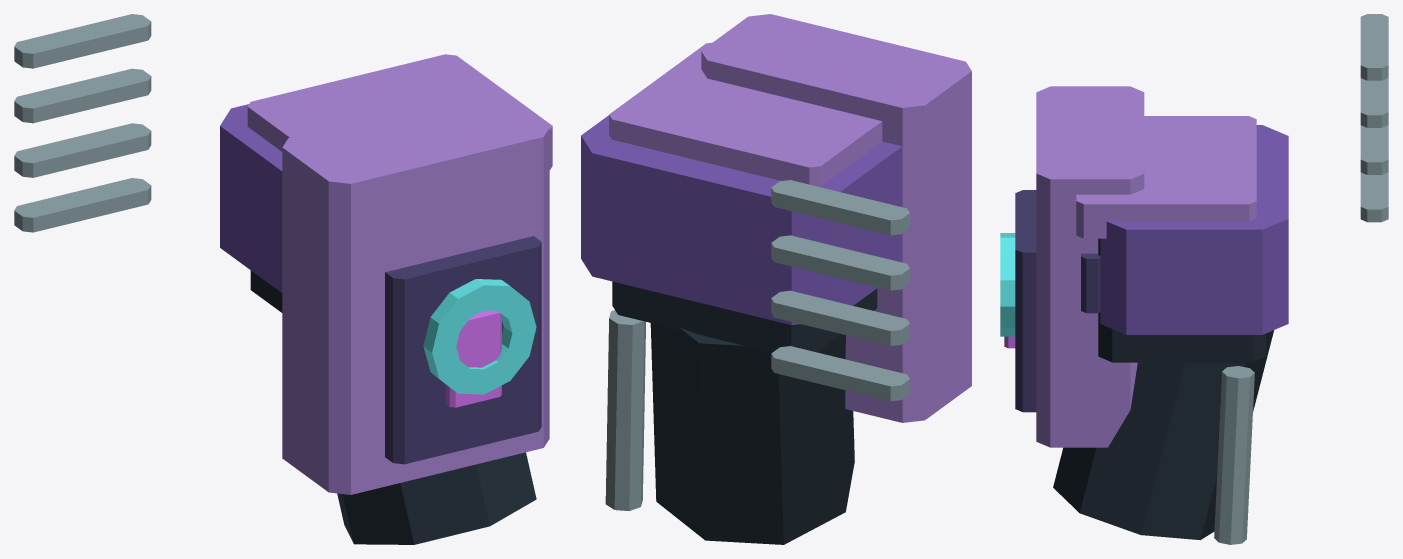
Rendered from enemy_tank_upper_arm_r.obj.
The picture shows the model from 3 angles, left to right: view 1: azimuth 30°, elevation 25°; view 2: azimuth 150°, elevation 25°; view 3: azimuth 270°, elevation 25°; orthographic projection. The views are drawn at different scales.
Size of the model in its own units: 0.96 by 1.08 by 0.97.
